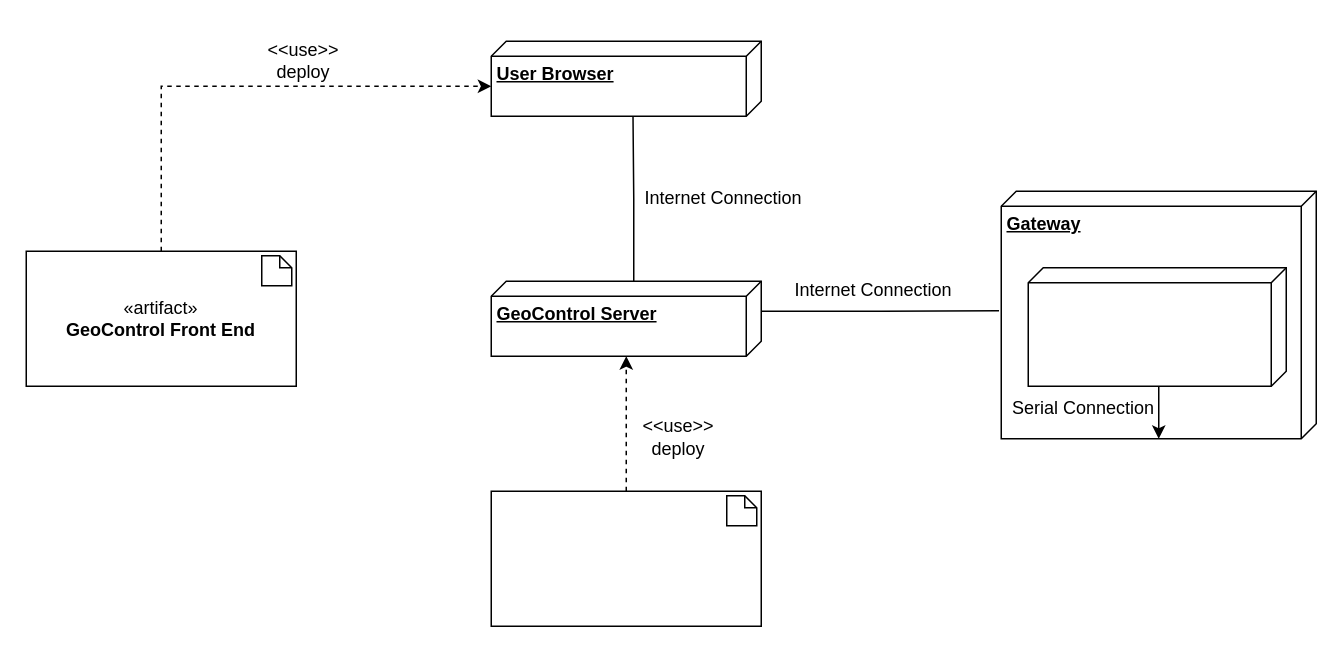
Image size: 1343x653. Some labels were removed from this diagram. Each missing label, with the box of its shape:
Sensor: (1027, 266, 1286, 386)
«artifact» GeoControl Back End: (490, 490, 761, 626)
